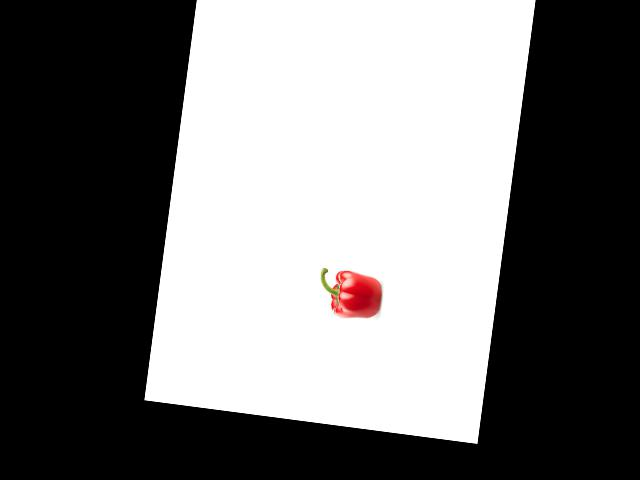bell_pepper: (315, 265, 384, 321)
